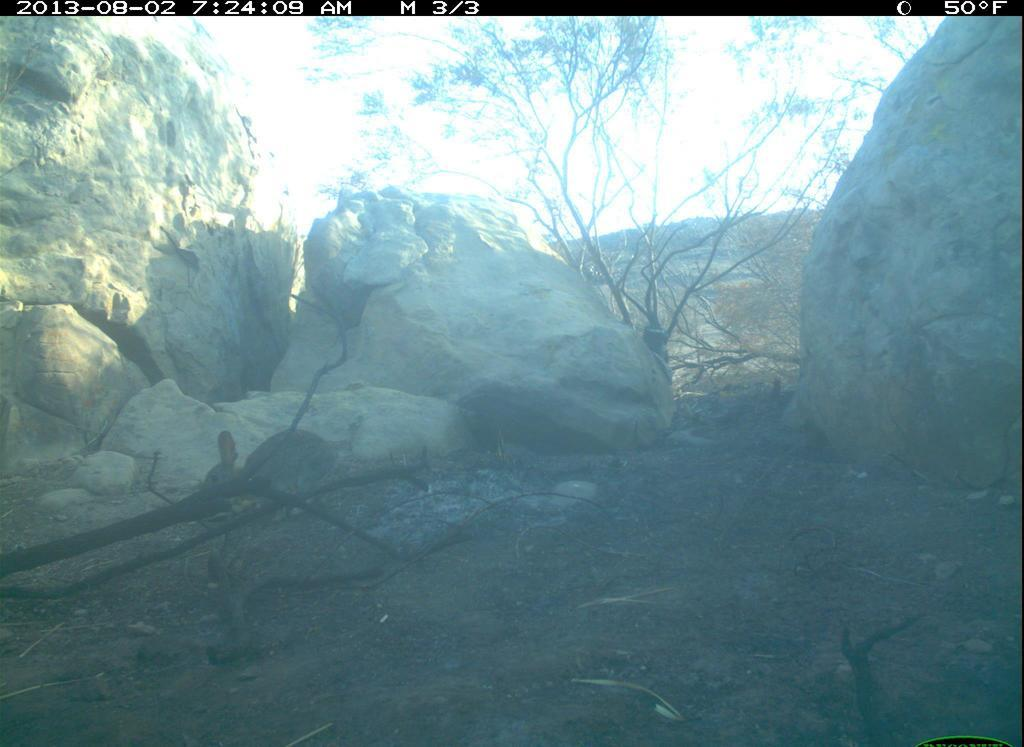bird: (189, 427, 355, 518)
